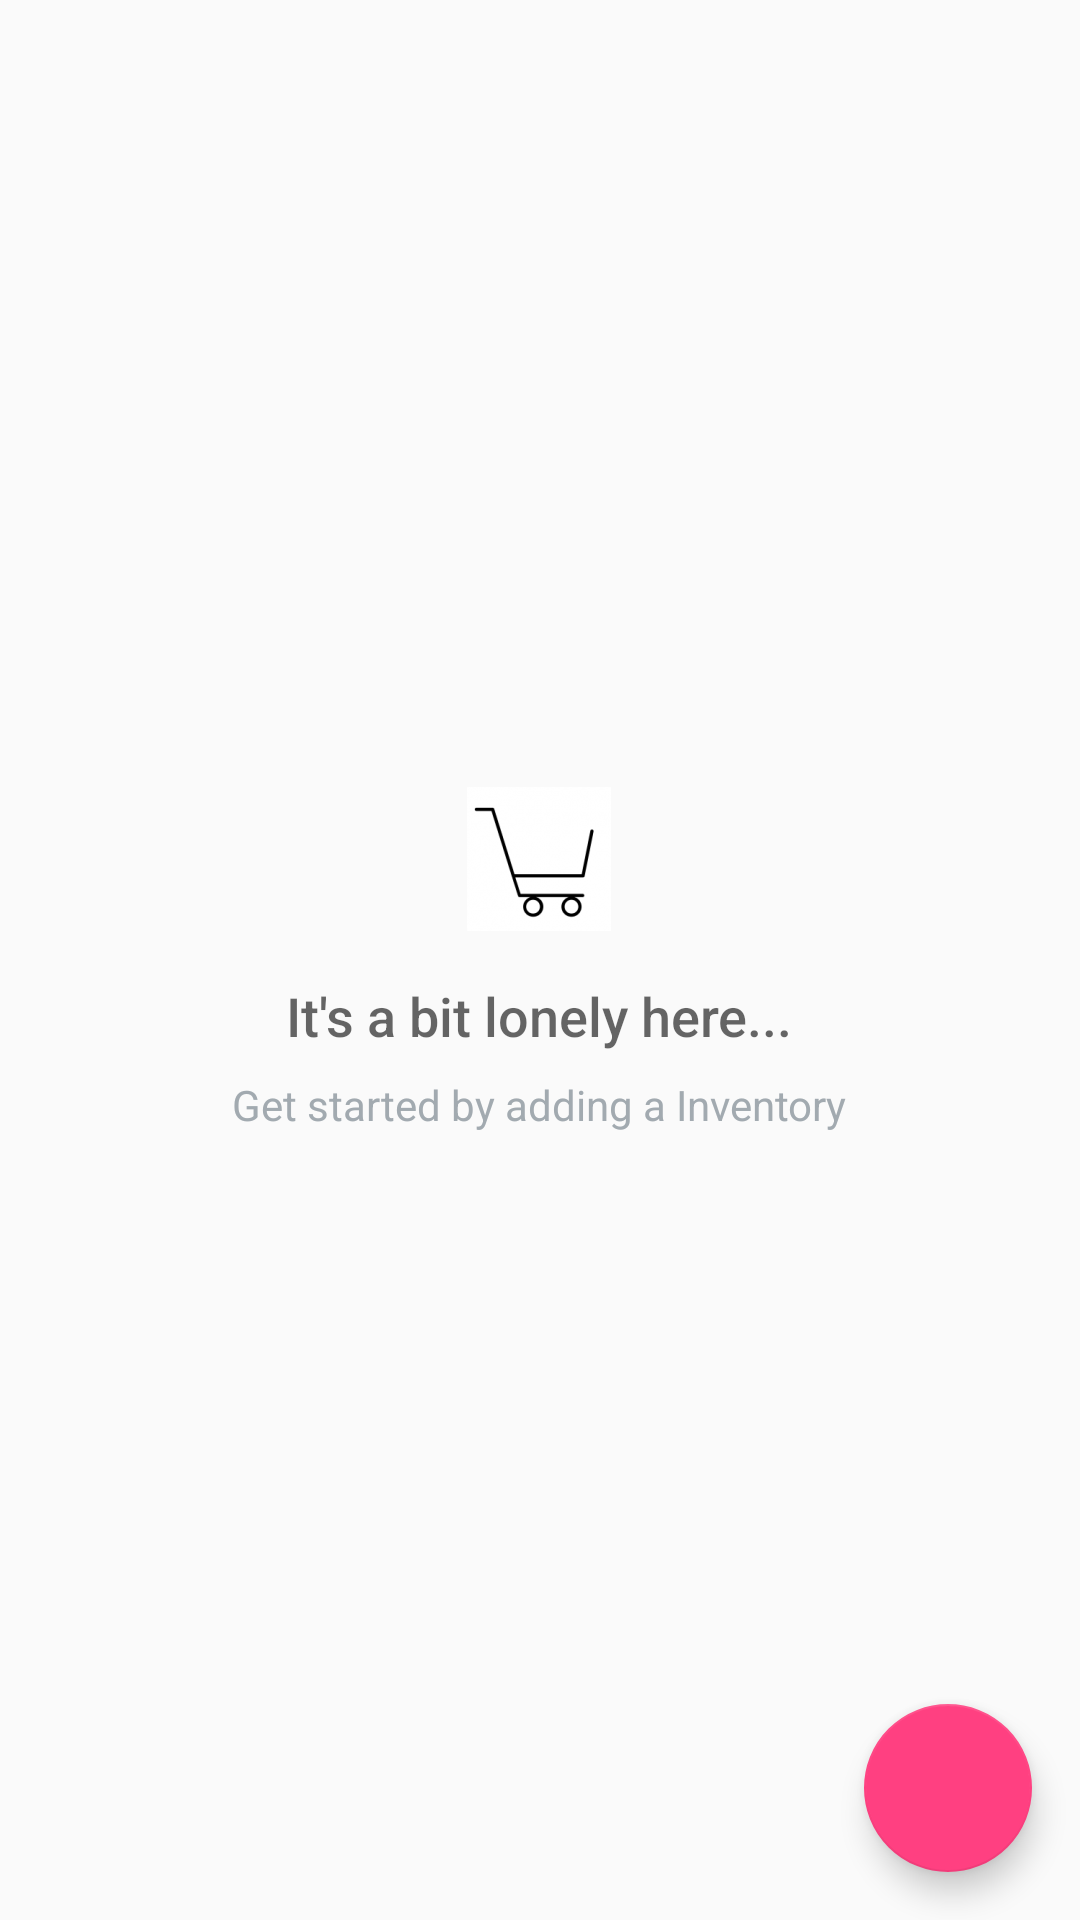

Named icons in this screenshot (1080 x 1920) and their centers, (x,y):
emptycart: (534,862)
